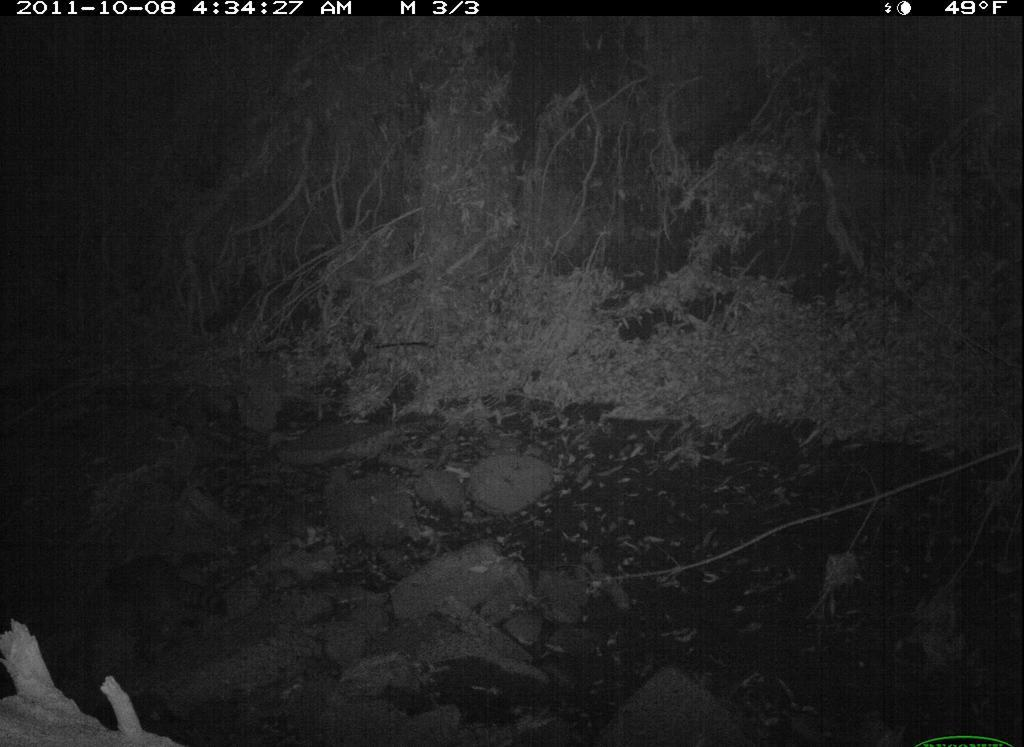raccoon: (80, 541, 249, 647)
